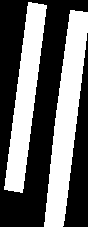parkingspot: (44, 10, 88, 227), (4, 2, 46, 192)
